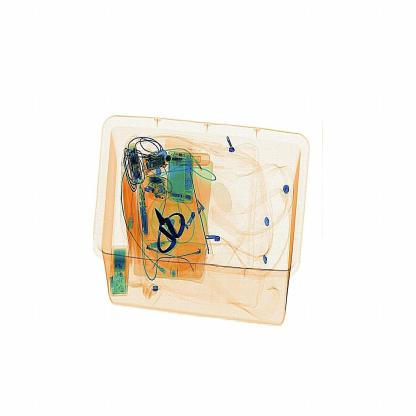gun: (146, 200, 198, 257)
